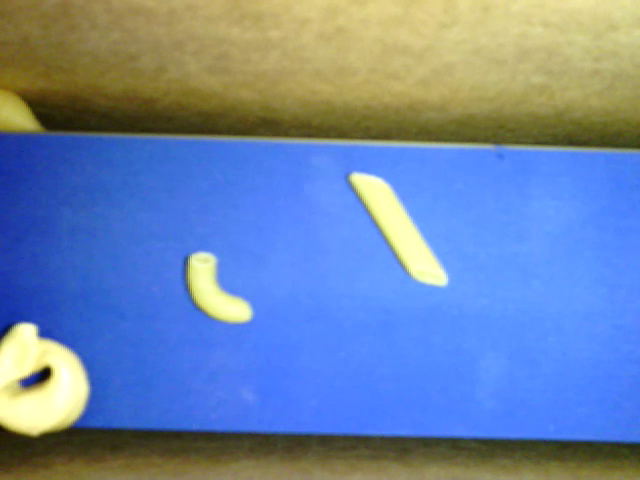elbow: (186, 251, 254, 322)
penne: (348, 172, 449, 286)
tortellini: (1, 325, 92, 436)
